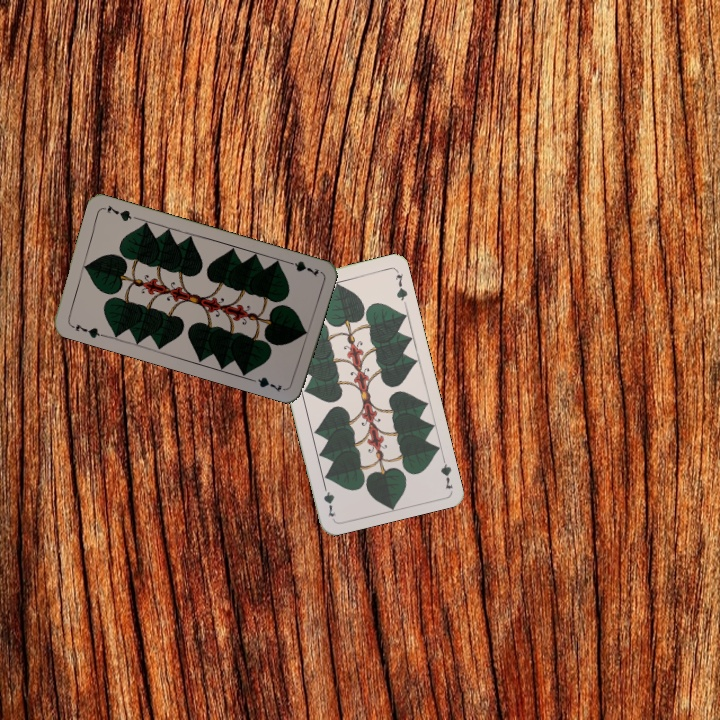G7: (66, 319, 106, 341), (282, 257, 321, 279), (437, 451, 455, 492)
